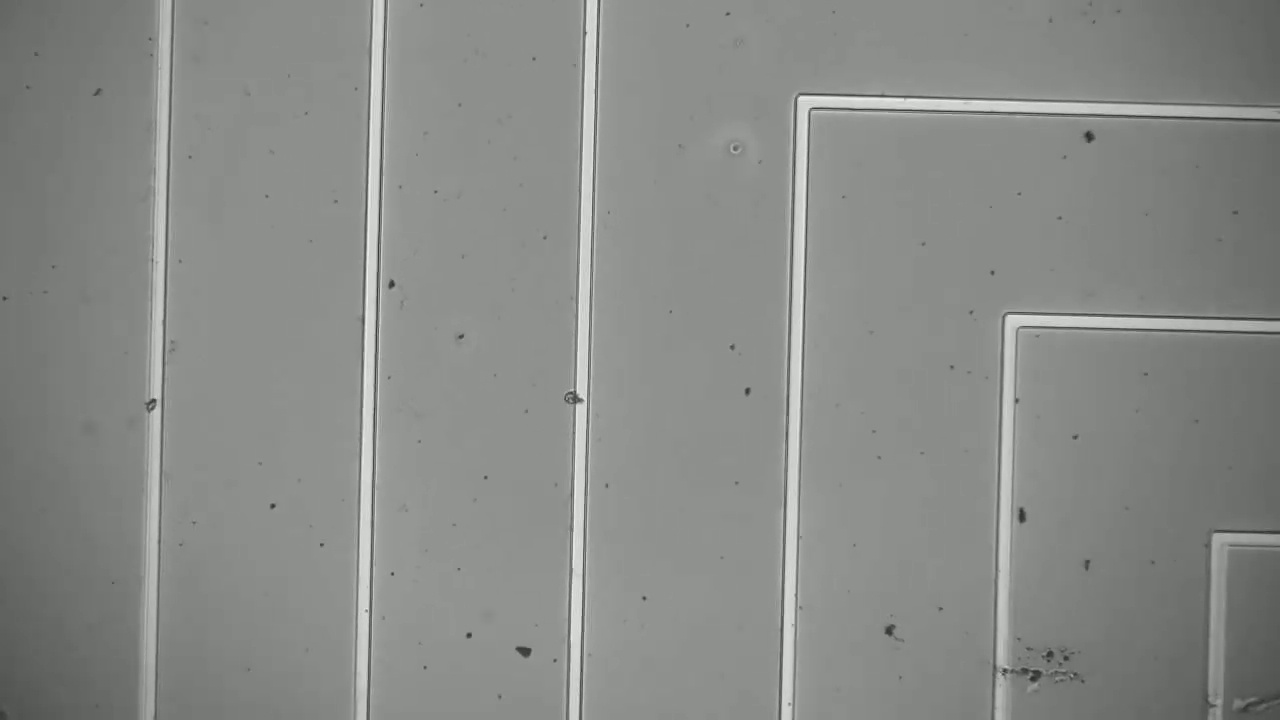stains_enbedded: (559, 383, 601, 420), (140, 391, 168, 420)
